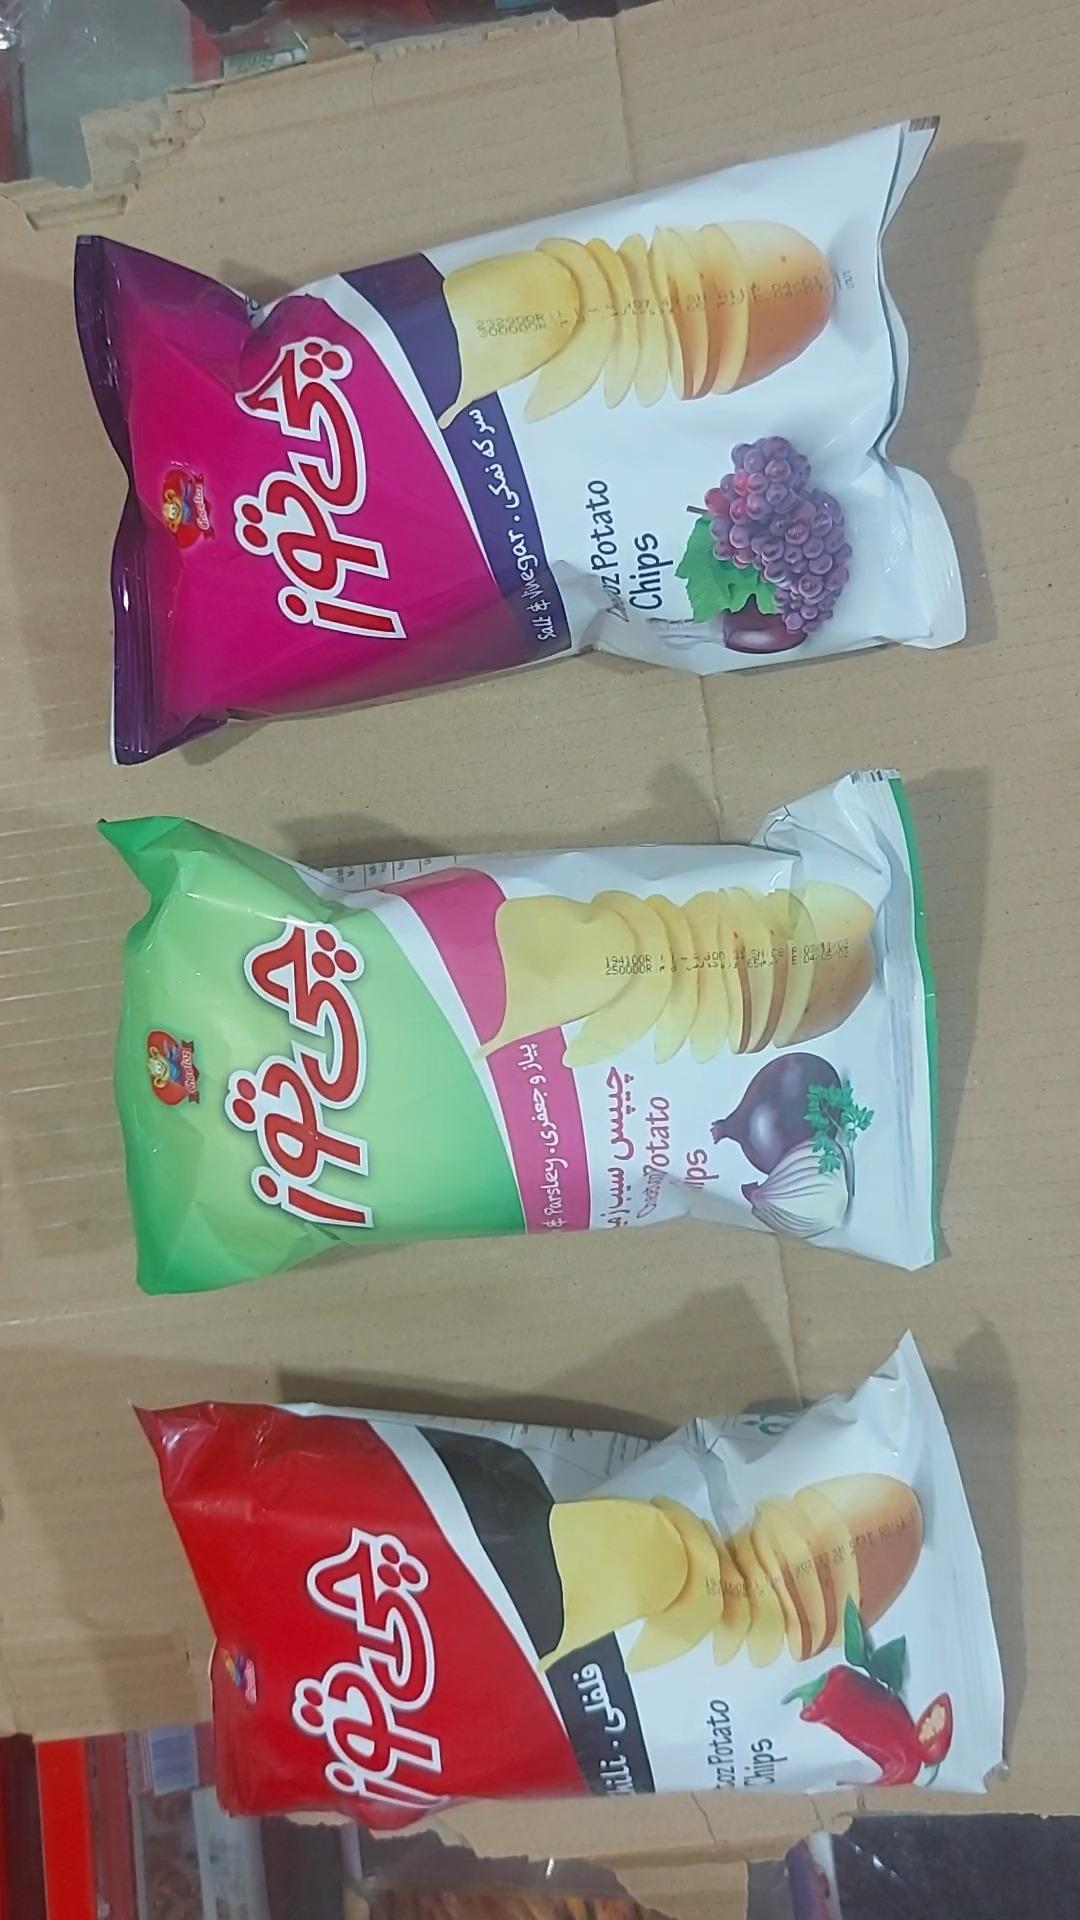Cheetoz chili chips: (133, 1335, 1005, 1838)
Cheetoz onion and parsley chips: (94, 770, 947, 1300)
Cheetoz vinegar chips: (73, 117, 969, 769)
